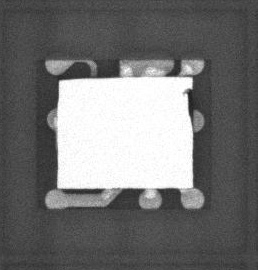DIE_BROKEN: (183, 87, 193, 126), (59, 77, 127, 81)
